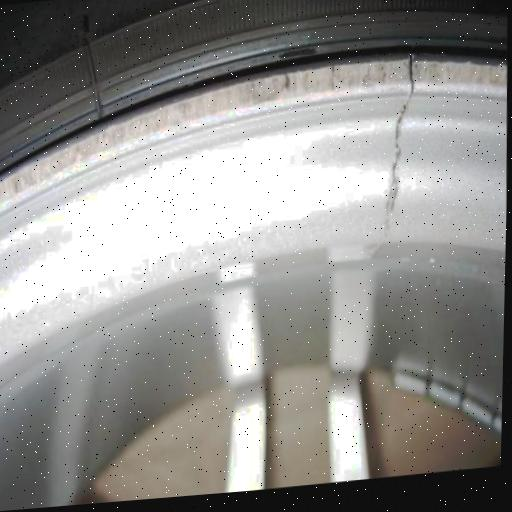crack: (361, 45, 429, 249)
